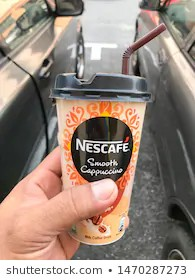nescafe-cappe: (53, 64, 154, 240)
